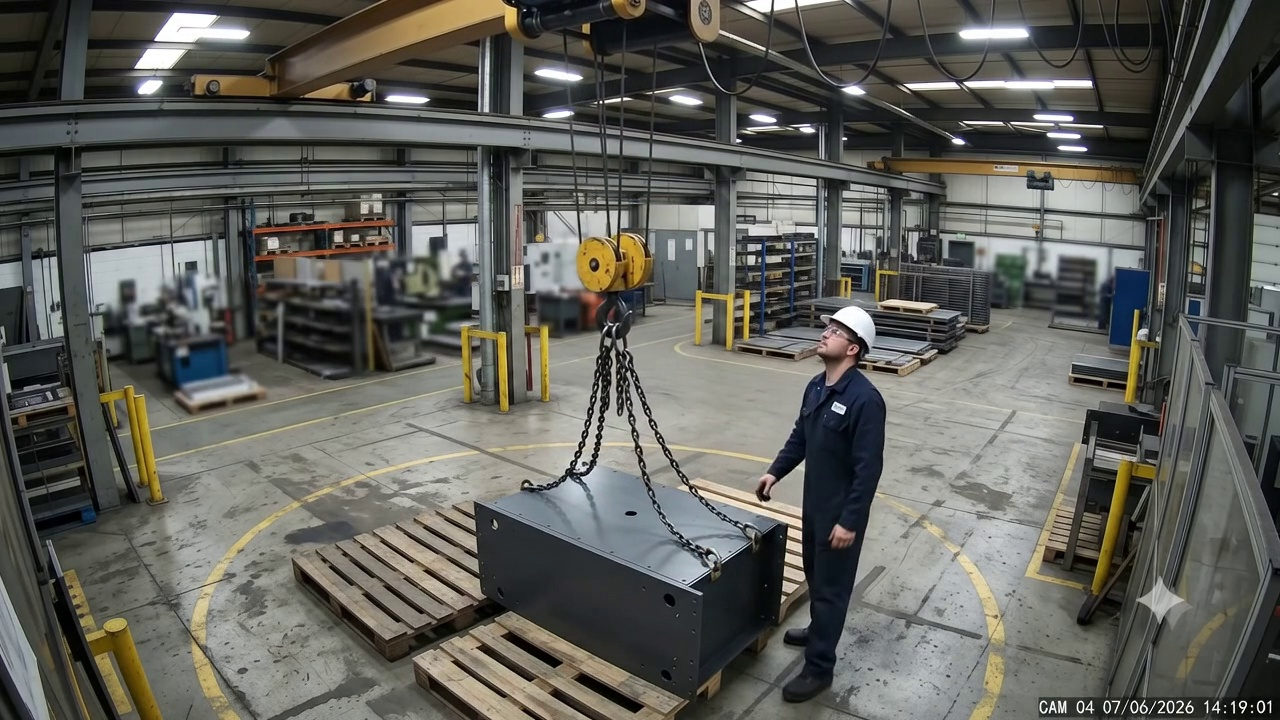person: (755, 306, 887, 705)
